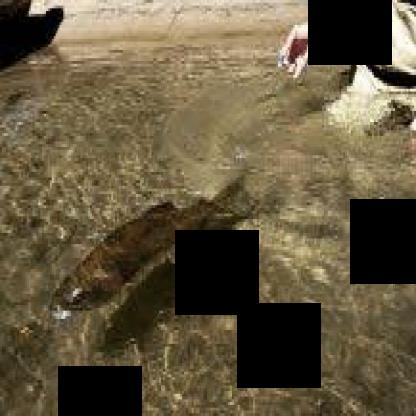fish: (48, 171, 252, 323)
